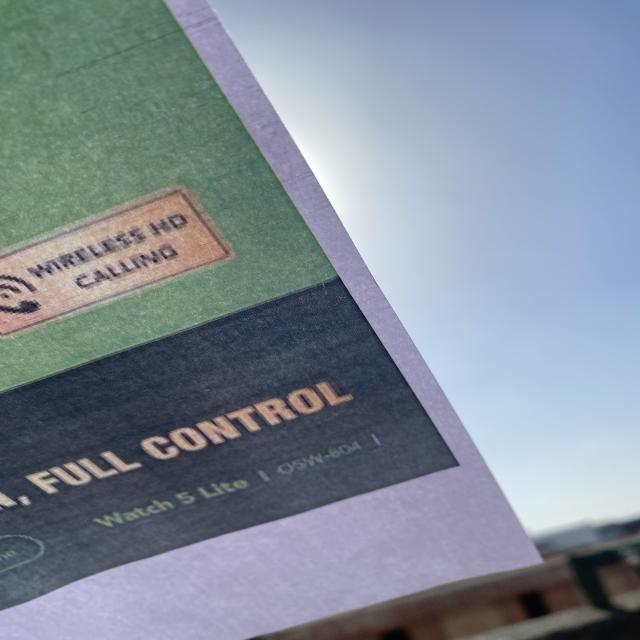Watch 5 Lite OSW-804: (78, 425, 392, 538)
